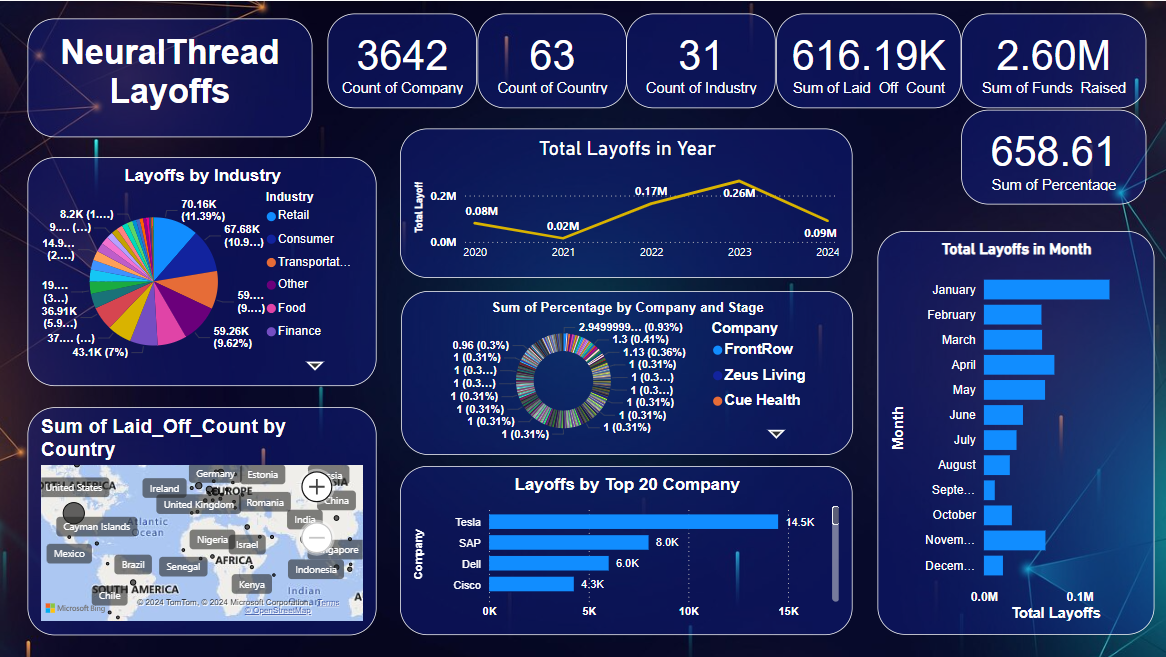

Layout of this report page (visuals, bound fields, positions):
{"tool":"powerbi","page":{"name":"Page 2","canvas":[1280,720],"ordinal":0},"visuals":[{"type":"lineChart","title":"Total Layoffs in Year","fields":{"Category":["layoffs_data.Date.Variation.Date Hierarchy.Year","layoffs_data.Date.Variation.Date Hierarchy.Quarter"],"Y":["Sum(layoffs_data.Laid_Off_Count)"]},"box":[438.6,140,497.1,164.3],"z":0},{"type":"pieChart","title":"Layoffs by Industry","fields":{"Category":["layoffs_data.Industry"],"Y":["Sum(layoffs_data.Laid_Off_Count)"]},"box":[30,171.4,382.9,251.4],"z":1000},{"type":"map","fields":{"Category":["layoffs_data.Country"],"Size":["Sum(layoffs_data.Laid_Off_Count)"]},"box":[30,445.7,382.9,250],"z":2000},{"type":"barChart","title":"Total Layoffs in Month","fields":{"Category":["layoffs_data.Date.Variation.Date Hierarchy.Month","layoffs_data.Date.Variation.Date Hierarchy.Day"],"Y":["Sum(layoffs_data.Laid_Off_Count)"]},"box":[962.9,252.9,304.3,442.9],"z":3000},{"type":"card","fields":{"Values":["CountNonNull(layoffs_data.Company)"]},"box":[359.4,14,164.3,104.3],"z":4000},{"type":"card","fields":{"Values":["Count(layoffs_data.Country)"]},"box":[523.7,14,164.3,104.3],"z":5000},{"type":"card","fields":{"Values":["Count(layoffs_data.Industry)"]},"box":[688,14,164.3,104.3],"z":6000},{"type":"card","fields":{"Values":["Sum(layoffs_data.Laid_Off_Count)"]},"box":[852.3,14,202.9,104.3],"z":7000},{"type":"card","fields":{"Values":["Sum(layoffs_data.Funds_Raised)"]},"box":[1055.1,14,202.9,104.3],"z":8000},{"type":"card","fields":{"Values":["Sum(layoffs_data.Percentage)"]},"box":[1054.6,118.9,202.9,104.3],"z":9000},{"type":"donutChart","fields":{"Category":["layoffs_data.Company"],"Series":["layoffs_data.Stage"],"Y":["Sum(layoffs_data.Percentage)"]},"box":[440,318.6,495.7,180],"z":10000},{"type":"clusteredBarChart","title":"Layoffs by Top 20 Company","fields":{"Category":["layoffs_data.Company"],"Y":["Sum(layoffs_data.Laid_Off_Count)"]},"box":[438.6,510,497.1,185.7],"z":11000},{"type":"textbox","box":[30,18.6,312.9,130],"z":12000}]}

Visuals, with their boxes in screenshot pixels (x1, y1, x2, y2), scaled from the page's 1280x720 canvas onto the 1166x657 screenshot:
"Total Layoffs in Year" lineChart: (x1=400, y1=128, x2=852, y2=278)
"Layoffs by Industry" pieChart: (x1=27, y1=156, x2=376, y2=386)
map - layoffs_data.Country x Sum(layoffs_data.Laid_Off_Count): (x1=27, y1=407, x2=376, y2=635)
"Total Layoffs in Month" barChart: (x1=877, y1=231, x2=1154, y2=635)
card - CountNonNull(layoffs_data.Company): (x1=327, y1=13, x2=477, y2=108)
card - Count(layoffs_data.Country): (x1=477, y1=13, x2=627, y2=108)
card - Count(layoffs_data.Industry): (x1=627, y1=13, x2=776, y2=108)
card - Sum(layoffs_data.Laid_Off_Count): (x1=776, y1=13, x2=961, y2=108)
card - Sum(layoffs_data.Funds_Raised): (x1=961, y1=13, x2=1146, y2=108)
card - Sum(layoffs_data.Percentage): (x1=961, y1=108, x2=1146, y2=204)
donutChart - layoffs_data.Company x layoffs_data.Stage: (x1=401, y1=291, x2=852, y2=455)
"Layoffs by Top 20 Company" clusteredBarChart: (x1=400, y1=465, x2=852, y2=635)
textbox: (x1=27, y1=17, x2=312, y2=136)
